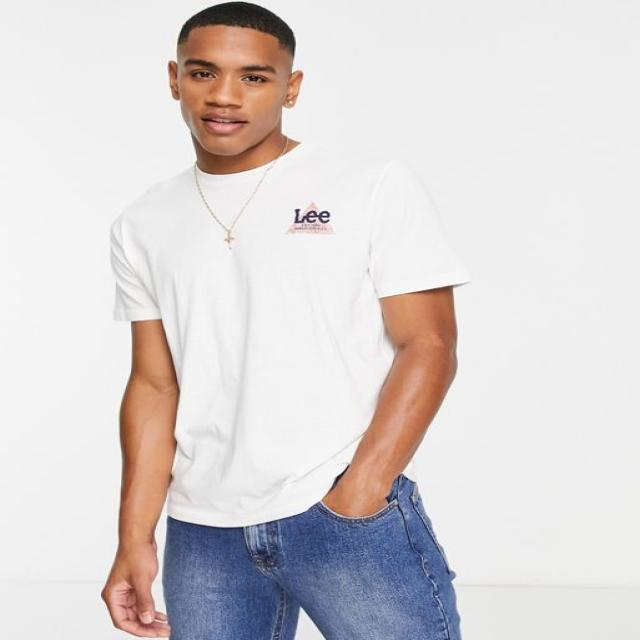tshirt: (105, 142, 468, 528)
